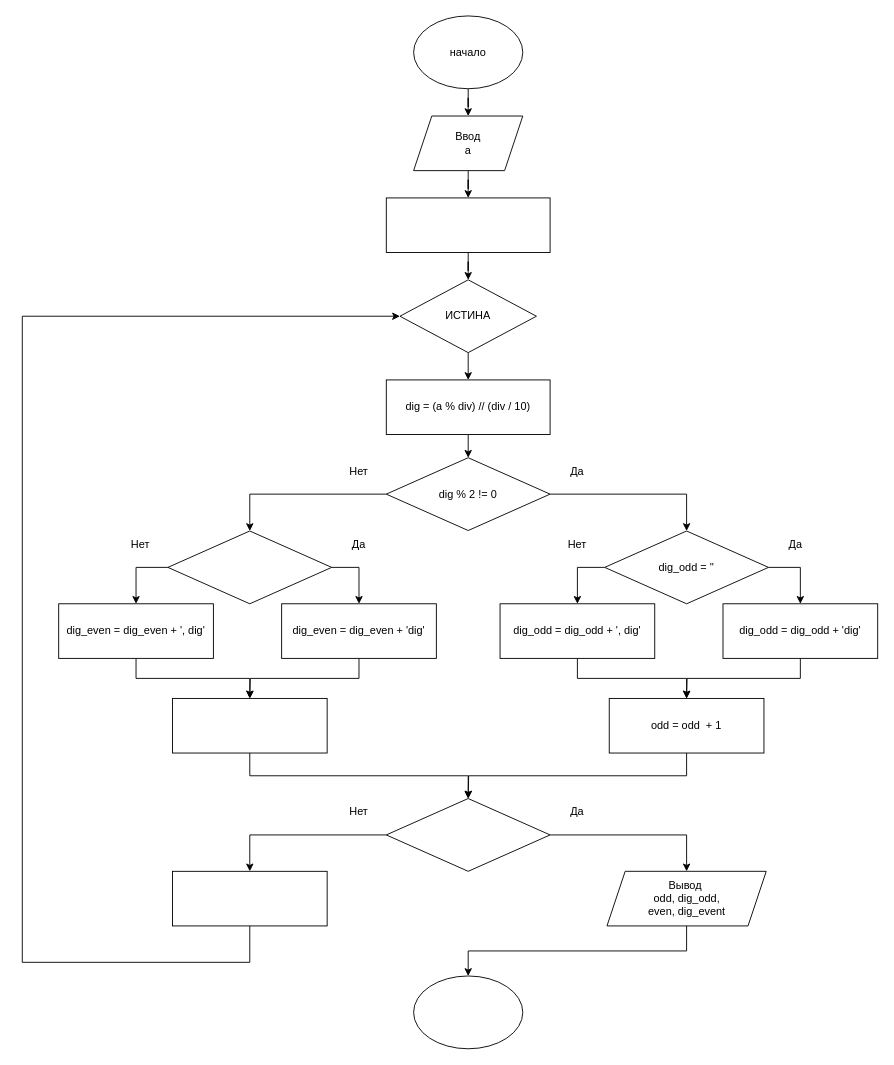
The diagram is 894 pixels wide and 1065 high, and some of its shapes have lost their labels. Here are the shapes that lost their labels. From the top down, the box of each, then its label:
(385, 197, 550, 253): div = 10 odd = 0, even = 0 dig_even = '', dig_odd = ''
(167, 530, 332, 604): dig_even = ''
(172, 698, 327, 753): even = even + 1
(385, 798, 550, 871): a = a % div
(172, 870, 327, 926): div = div * 10
(413, 975, 523, 1049): Конец
